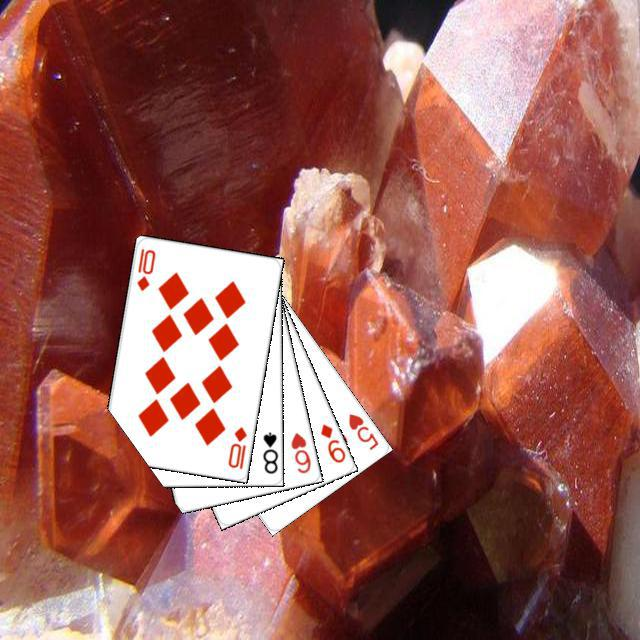10d: (223, 422, 249, 471), (132, 243, 157, 292)
5h: (343, 408, 380, 452)
6h: (286, 428, 312, 475)
8s: (258, 427, 278, 475)
9d: (315, 419, 347, 464)
